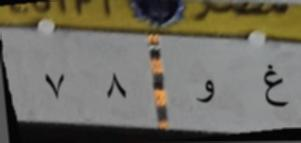7: (43, 68, 65, 102)
8: (104, 72, 128, 103)
ghayn: (260, 60, 289, 115)
waw: (194, 74, 220, 110)
